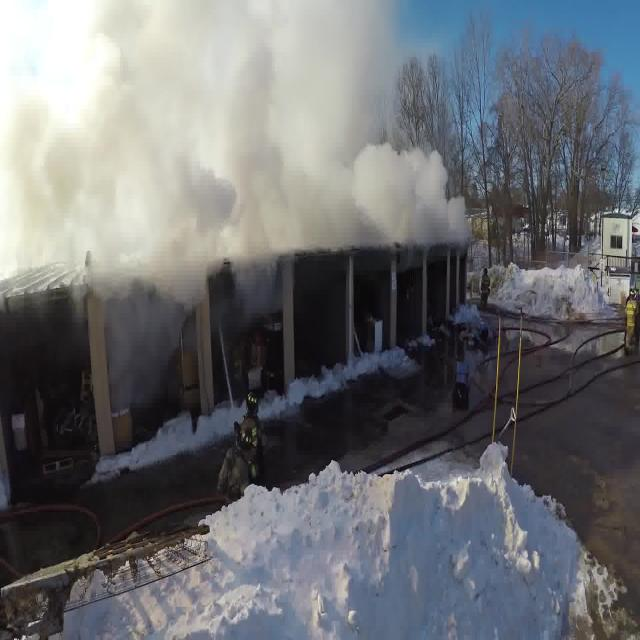Smoke: (0, 0, 476, 291)
